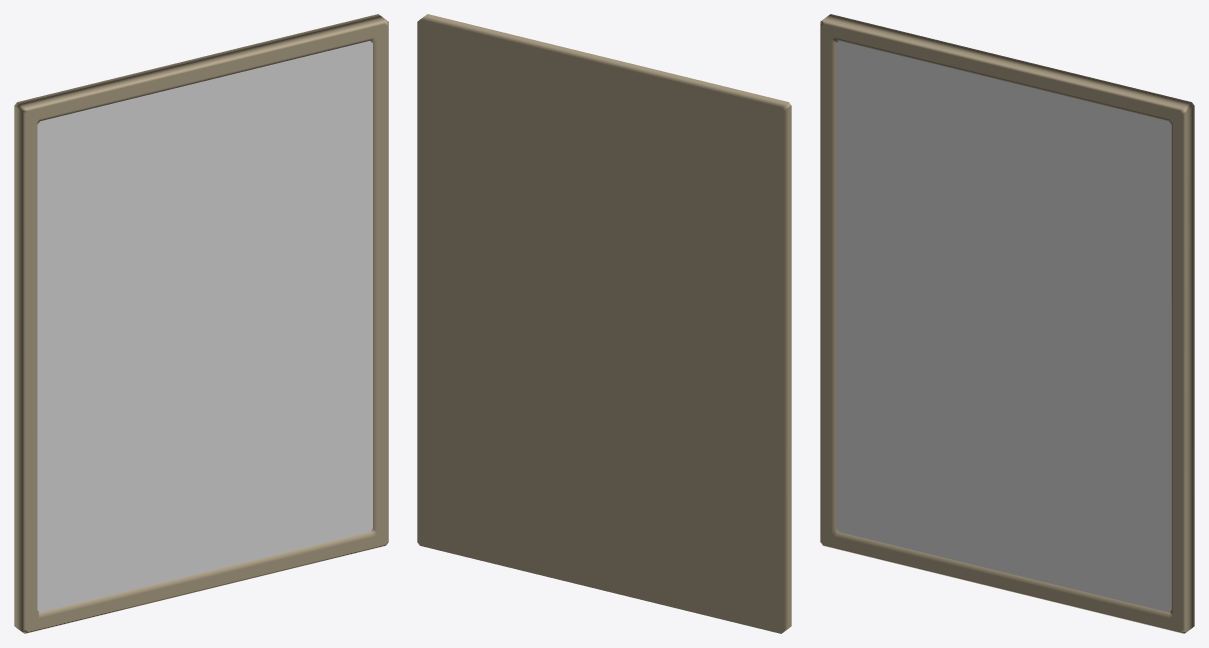
Rendered from Miror.fbx.
3 views of the same model, side by side, from view 1: azimuth 30°, elevation 25°; view 2: azimuth 150°, elevation 25°; view 3: azimuth 330°, elevation 25° (orthographic).
Parts seen in each view (by area): view 1: Cube.002; view 2: Cube.002; view 3: Cube.002.
Part boxes in pixels (x1,y1,x2,y2): Cube.002: (14,14,388,633); Cube.002: (417,14,791,633); Cube.002: (820,14,1194,633).
Bounding box in the file's own units: 103 × 141 × 4.46.
